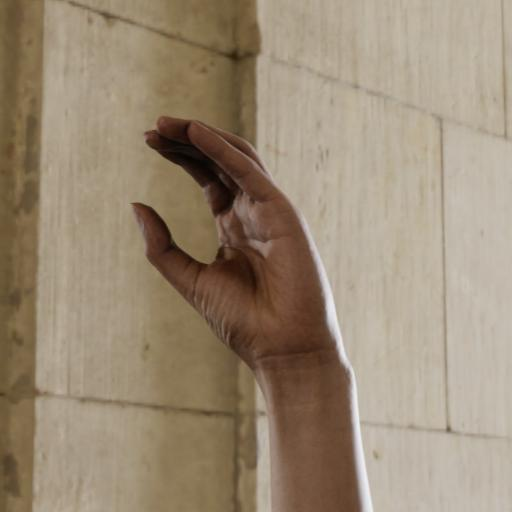C: (124, 104, 365, 407)
